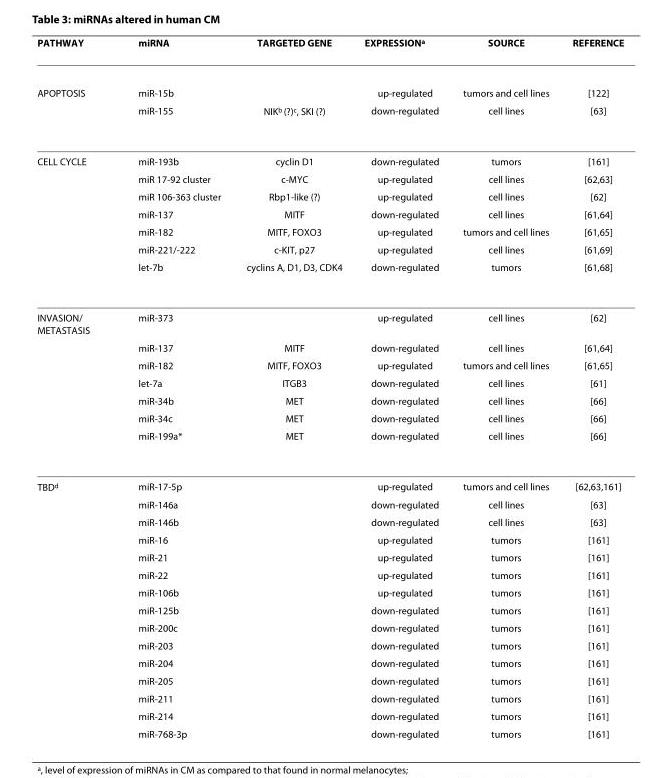table: (36, 36, 623, 739)
table column: (232, 36, 352, 739), (113, 36, 232, 739), (450, 36, 560, 739), (352, 36, 450, 739), (36, 36, 113, 739), (560, 36, 623, 739)
table column header: (36, 36, 623, 67)
table row: (36, 292, 623, 338), (36, 460, 623, 495), (36, 67, 623, 101), (36, 101, 623, 135), (36, 135, 623, 169), (36, 258, 623, 292), (36, 426, 623, 460), (36, 36, 623, 67), (36, 169, 623, 187), (36, 187, 623, 205), (36, 222, 623, 240), (36, 240, 623, 258), (36, 338, 623, 356), (36, 373, 623, 391), (36, 391, 623, 409), (36, 495, 623, 513), (36, 530, 623, 548), (36, 565, 623, 583), (36, 583, 623, 601), (36, 618, 623, 636), (36, 636, 623, 654), (36, 671, 623, 689), (36, 689, 623, 707), (36, 205, 623, 222), (36, 356, 623, 373), (36, 409, 623, 426), (36, 513, 623, 530), (36, 548, 623, 565), (36, 601, 623, 618), (36, 654, 623, 671), (36, 707, 623, 724), (36, 724, 623, 739)
table spanning cell: (36, 460, 113, 739), (36, 292, 113, 460), (36, 135, 113, 292), (36, 67, 113, 135)
